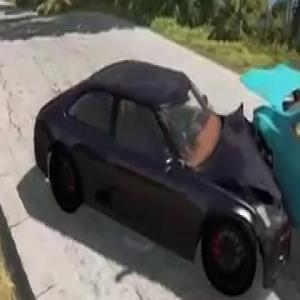moderate: (30, 46, 300, 300)
